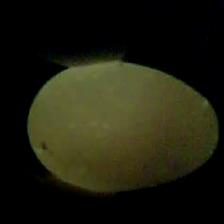infertile: (26, 61, 220, 192)
